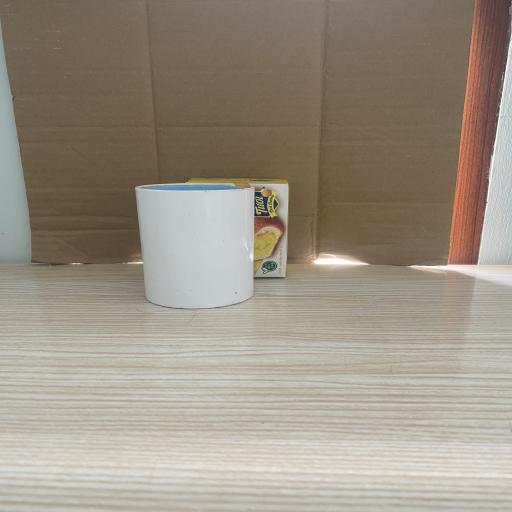custas: (186, 179, 288, 278)
